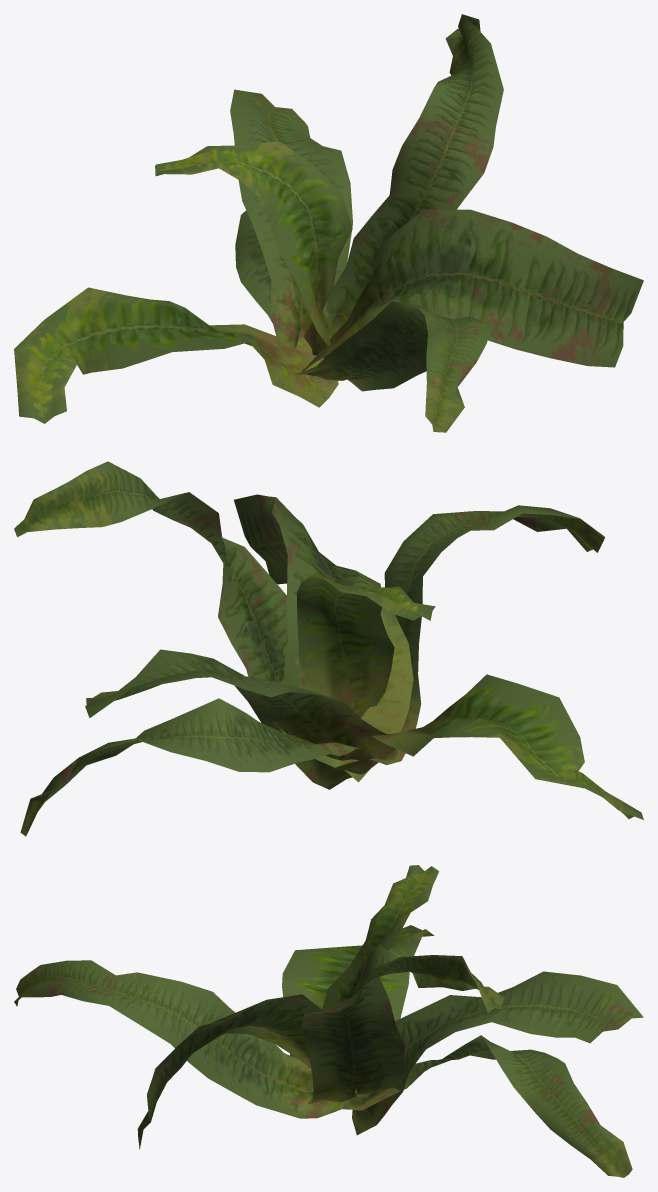
File: fern_02_a.glb
The picture shows the model from 3 angles, top to bottom: view 1: azimuth 30°, elevation 25°; view 2: azimuth 150°, elevation 25°; view 3: azimuth 270°, elevation 25°; orthographic projection. The views are drawn at different scales.
Visible parts, largest first — view 1: fern_02_a_LOD0; view 2: fern_02_a_LOD0; view 3: fern_02_a_LOD0.
Boxes of the visible parts, x1=… form: fern_02_a_LOD0: x1=14, y1=14, x2=643, y2=432; fern_02_a_LOD0: x1=14, y1=461, x2=643, y2=836; fern_02_a_LOD0: x1=14, y1=865, x2=643, y2=1177.
Size of the model in its own units: 0.5519 by 0.2868 by 0.6134.
1 material, 1 textured.
